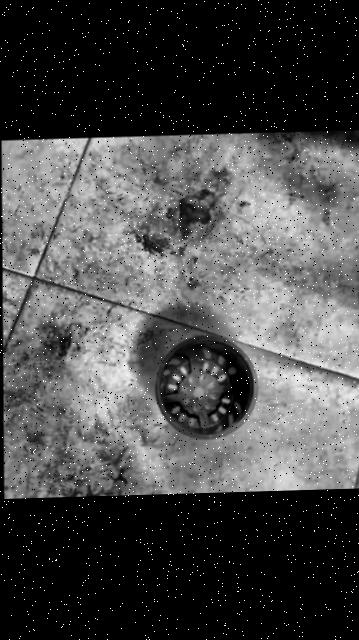pot: (154, 334, 255, 443)
